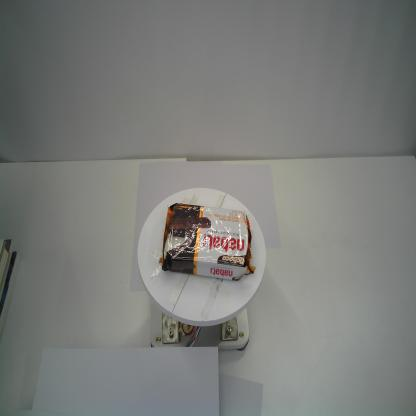Dessert: (157, 200, 257, 284)
